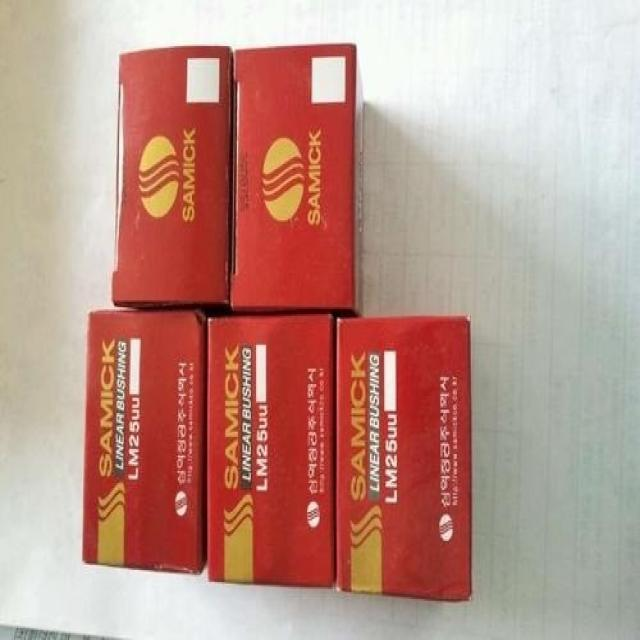box: (335, 315, 473, 601), (231, 43, 364, 318), (207, 307, 337, 587), (84, 308, 208, 573), (113, 46, 233, 310)
